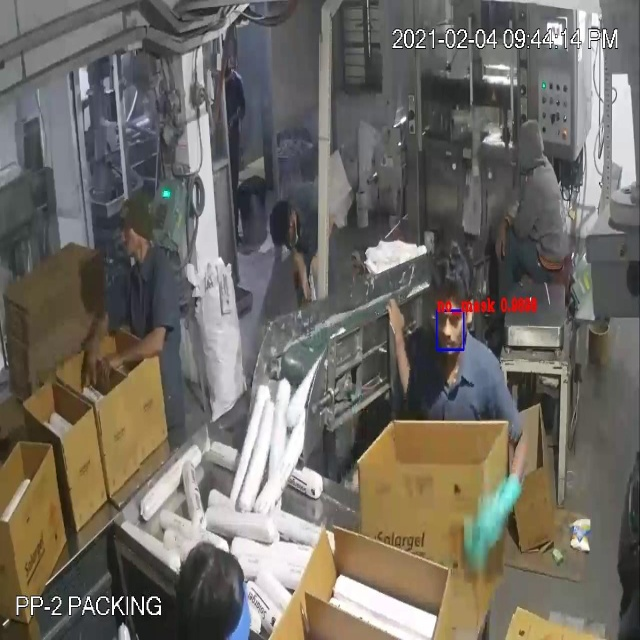Guantes: (458, 461, 525, 571)
Sin_guantes: (380, 286, 419, 402), (78, 298, 120, 396), (100, 332, 171, 386), (285, 245, 313, 313), (489, 212, 513, 267)
